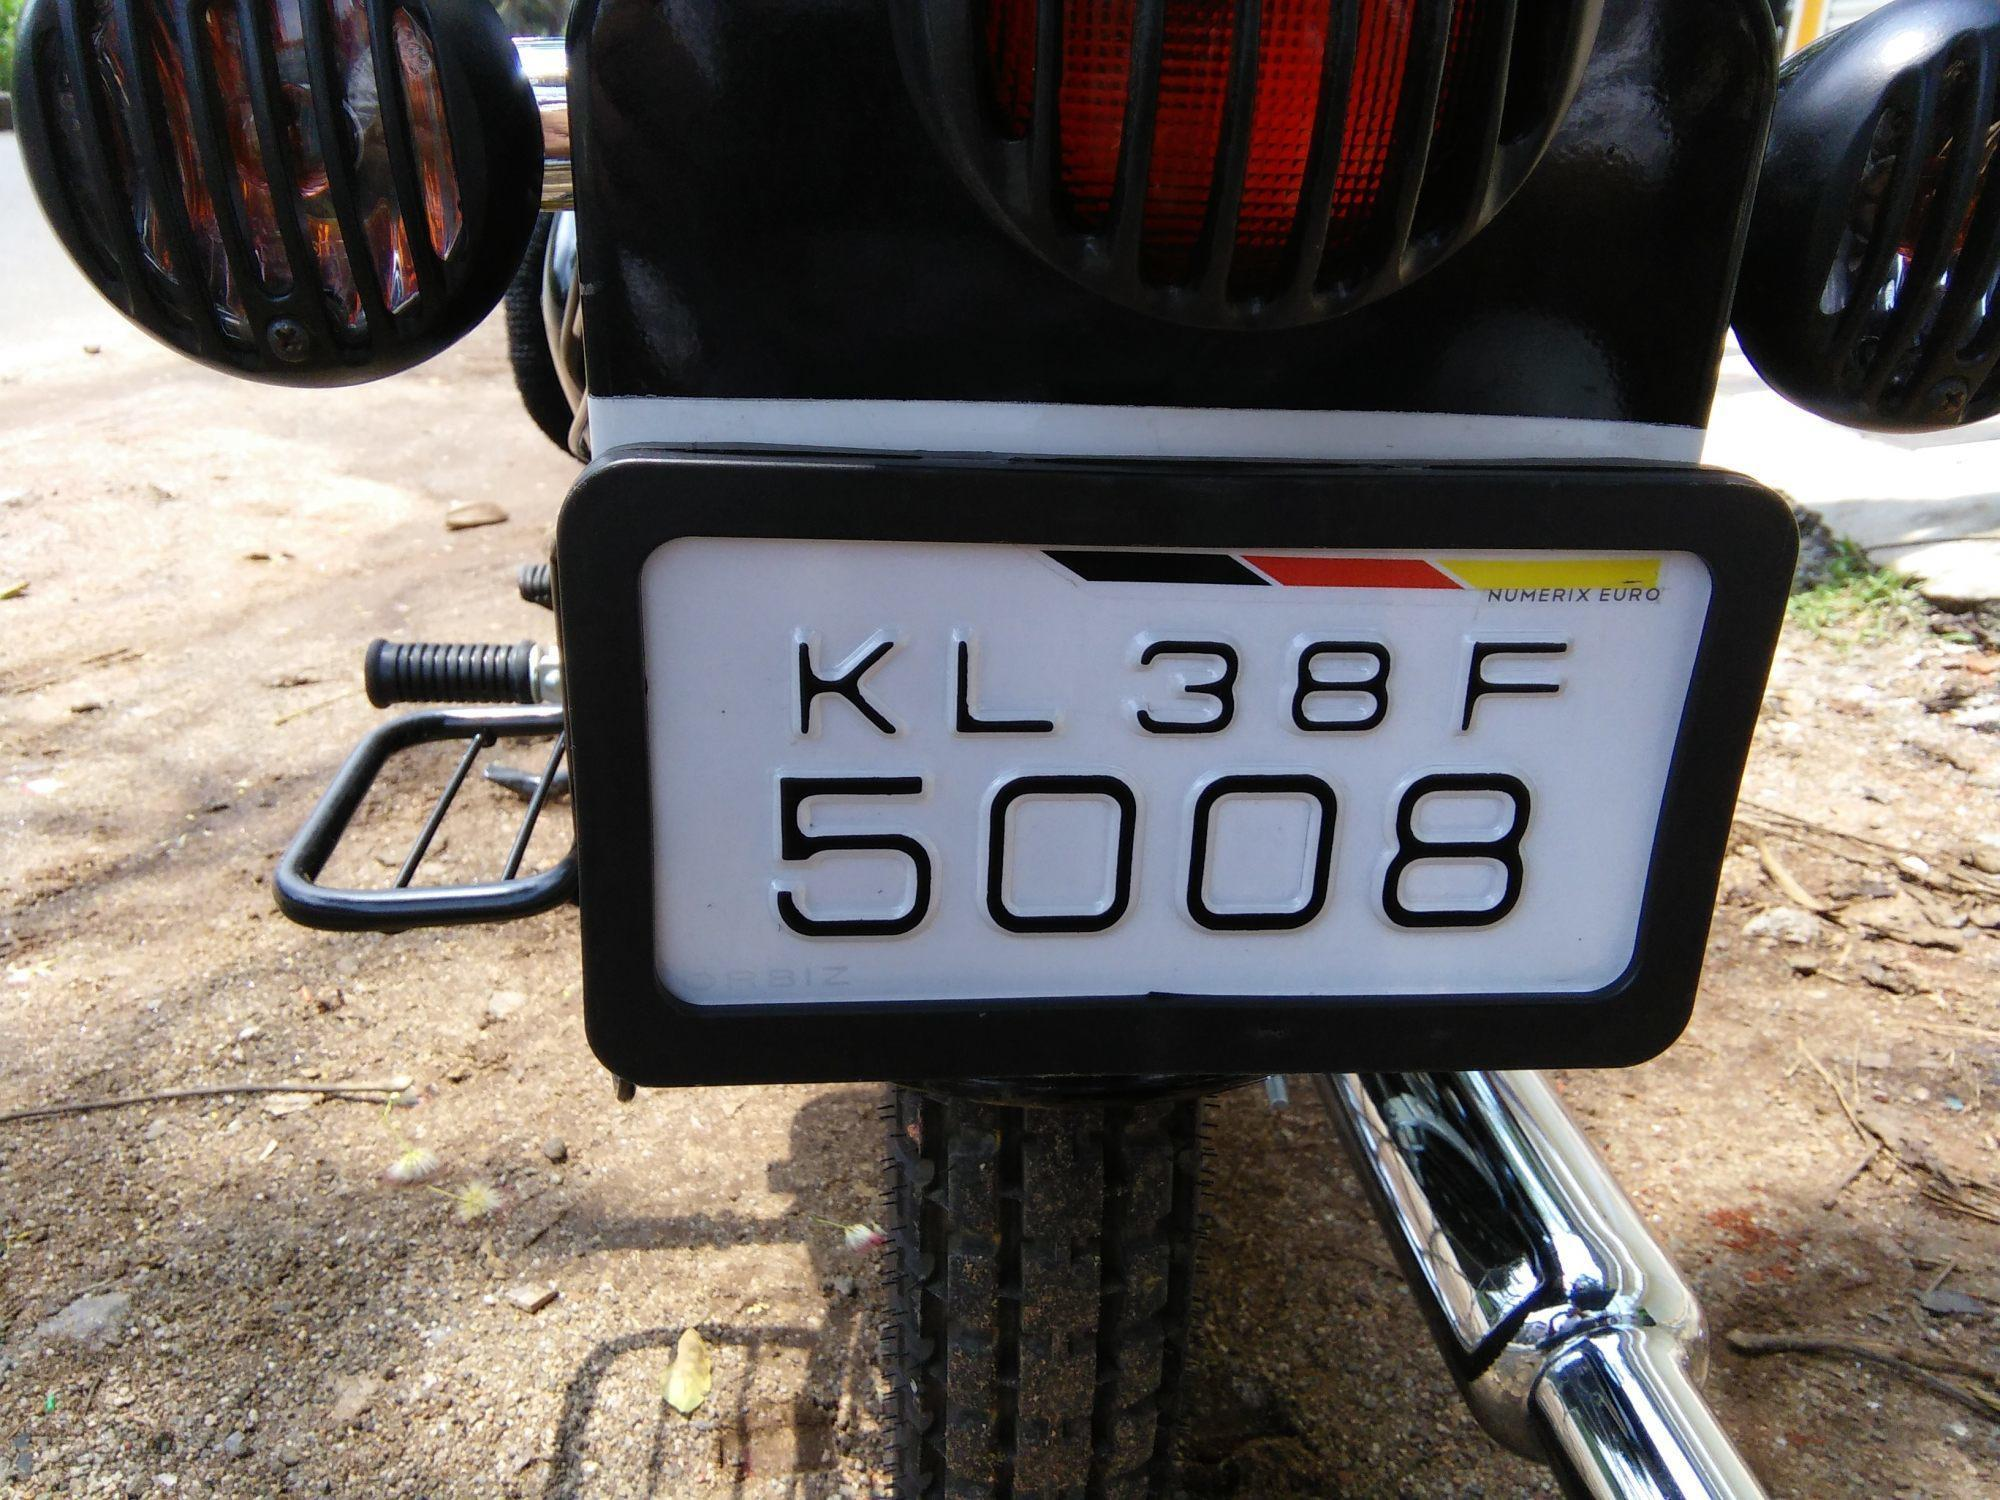licence-plate: (654, 535, 1679, 1024)
